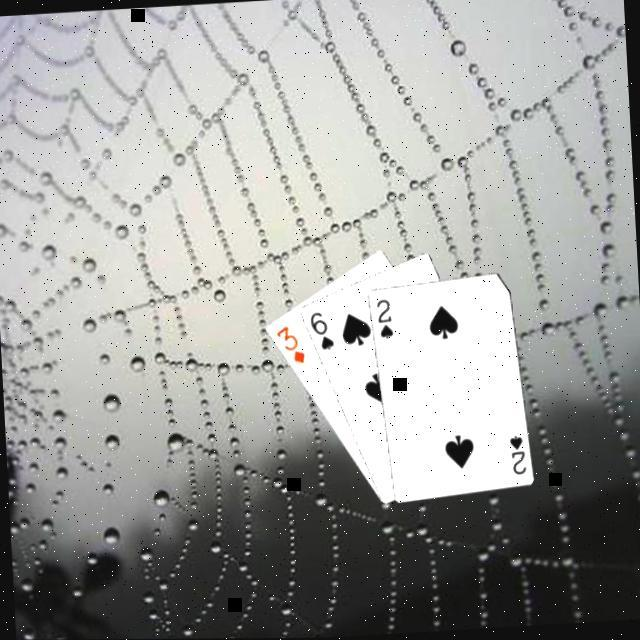2S: (371, 295, 395, 342), (505, 430, 528, 477)
3D: (271, 321, 307, 367)
6S: (306, 308, 336, 353)
